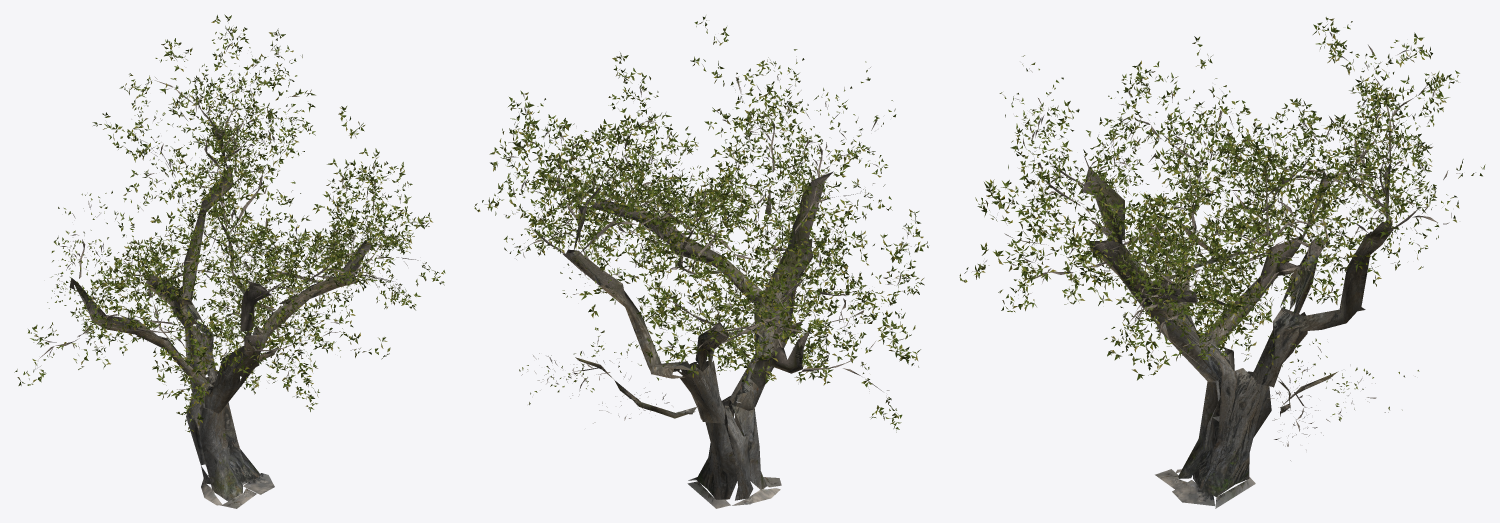
File: island_tree_01_lod0.gltf
3 renders of one model, left to right at view 1: azimuth 30°, elevation 25°; view 2: azimuth 150°, elevation 25°; view 3: azimuth 270°, elevation 25°, orthographic. The views are drawn at different scales.
Parts seen in each view (by area): view 1: island_tree_01_lod0; view 2: island_tree_01_lod0; view 3: island_tree_01_lod0.
Part boxes in pixels (<box>): island_tree_01_lod0: <box>14,14,445,508</box>; island_tree_01_lod0: <box>474,16,928,508</box>; island_tree_01_lod0: <box>959,17,1485,508</box>.
Size of the model in its own units: 4.71 by 5.01 by 4.77.
3 materials, 3 textured.
